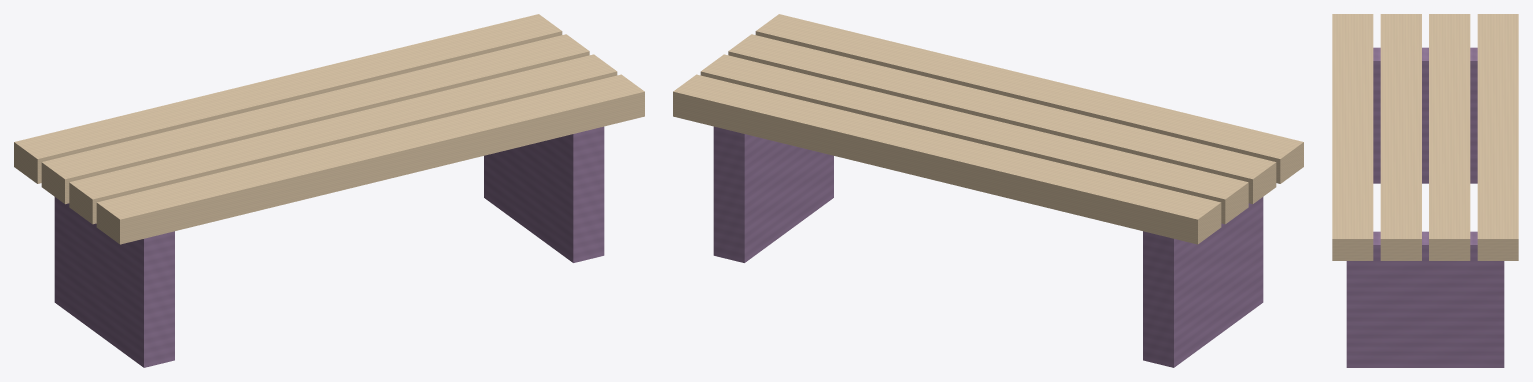
The model's file is atlas100-papercraft-util03.glb.
3 renders of one model, left to right at view 1: azimuth 30°, elevation 25°; view 2: azimuth 150°, elevation 25°; view 3: azimuth 270°, elevation 25°, orthographic. The views are drawn at different scales.
Visible parts, largest first — view 1: atlas100-papercraft-util03:part-005, atlas100-papercraft-util03:part-003, atlas100-papercraft-util03:part-002, atlas100-papercraft-util03:part-004, atlas100-papercraft-util03:part-000, atlas100-papercraft-util03:part-001; view 2: atlas100-papercraft-util03:part-002, atlas100-papercraft-util03:part-004, atlas100-papercraft-util03:part-003, atlas100-papercraft-util03:part-005, atlas100-papercraft-util03:part-000, atlas100-papercraft-util03:part-001; view 3: atlas100-papercraft-util03:part-001, atlas100-papercraft-util03:part-002, atlas100-papercraft-util03:part-003, atlas100-papercraft-util03:part-004, atlas100-papercraft-util03:part-005, atlas100-papercraft-util03:part-000.
Part boxes in pixels (box(x1,y1,x2,y2)): atlas100-papercraft-util03:part-005: box(96, 74, 644, 244); atlas100-papercraft-util03:part-003: box(41, 34, 589, 204); atlas100-papercraft-util03:part-002: box(14, 14, 562, 183); atlas100-papercraft-util03:part-004: box(69, 54, 617, 224); atlas100-papercraft-util03:part-000: box(54, 197, 174, 367); atlas100-papercraft-util03:part-001: box(484, 126, 604, 262); atlas100-papercraft-util03:part-002: box(673, 74, 1221, 244); atlas100-papercraft-util03:part-004: box(728, 34, 1276, 204); atlas100-papercraft-util03:part-003: box(700, 54, 1248, 224); atlas100-papercraft-util03:part-005: box(755, 14, 1303, 183); atlas100-papercraft-util03:part-000: box(1143, 197, 1263, 367); atlas100-papercraft-util03:part-001: box(713, 126, 833, 262); atlas100-papercraft-util03:part-001: box(1346, 231, 1504, 367); atlas100-papercraft-util03:part-002: box(1477, 14, 1518, 260); atlas100-papercraft-util03:part-003: box(1429, 14, 1470, 260); atlas100-papercraft-util03:part-004: box(1380, 14, 1421, 260); atlas100-papercraft-util03:part-005: box(1332, 14, 1373, 260); atlas100-papercraft-util03:part-000: box(1373, 47, 1477, 183).
Bounding box in the file's own units: 2.5 × 0.7397 × 0.8763.
2 materials, 2 textured.
